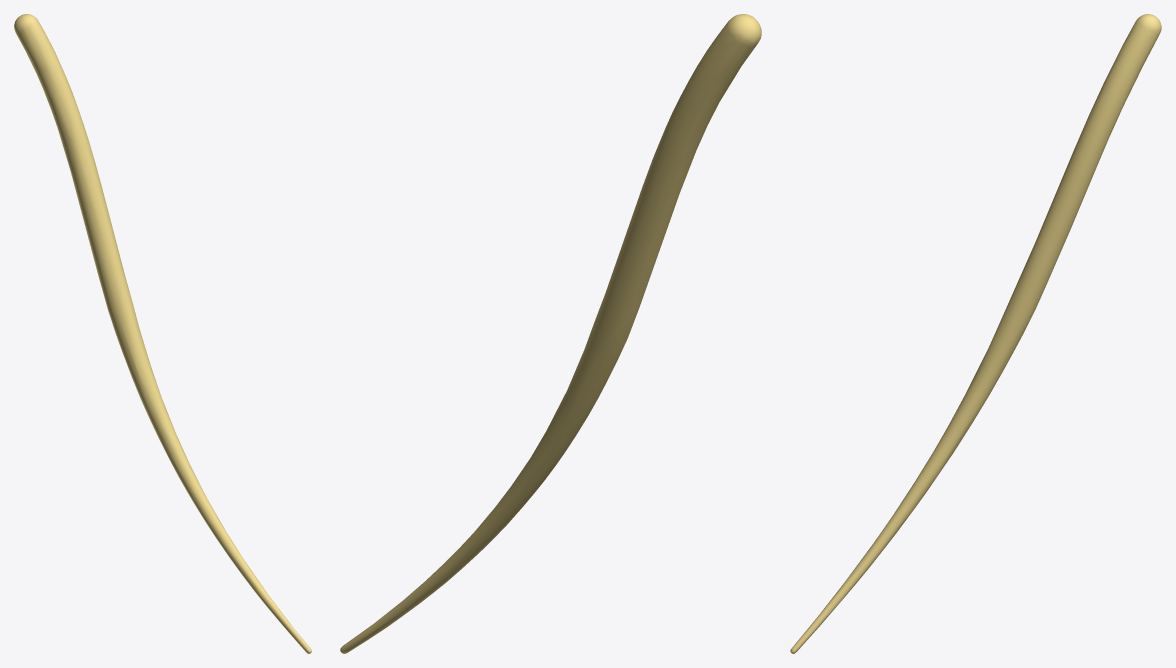
File: fma52994_fj3907.glb
3 renders of one model, left to right at view 1: azimuth 30°, elevation 25°; view 2: azimuth 210°, elevation 25°; view 3: azimuth 270°, elevation 25°, orthographic. The views are drawn at different scales.
Parts seen in each view (by area): view 1: FMA52994_FJ3907; view 2: FMA52994_FJ3907; view 3: FMA52994_FJ3907.
Boxes of the visible parts, x1,y1,x2,y2 form: FMA52994_FJ3907: (14, 14, 311, 653); FMA52994_FJ3907: (340, 14, 761, 653); FMA52994_FJ3907: (790, 14, 1161, 653).
Size of the model in its own units: 0.00731 by 0.0296 by 0.0172.
